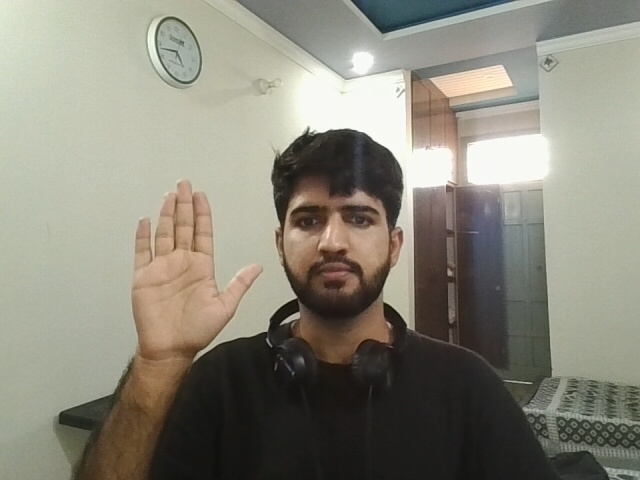Hello: (103, 168, 280, 351)
